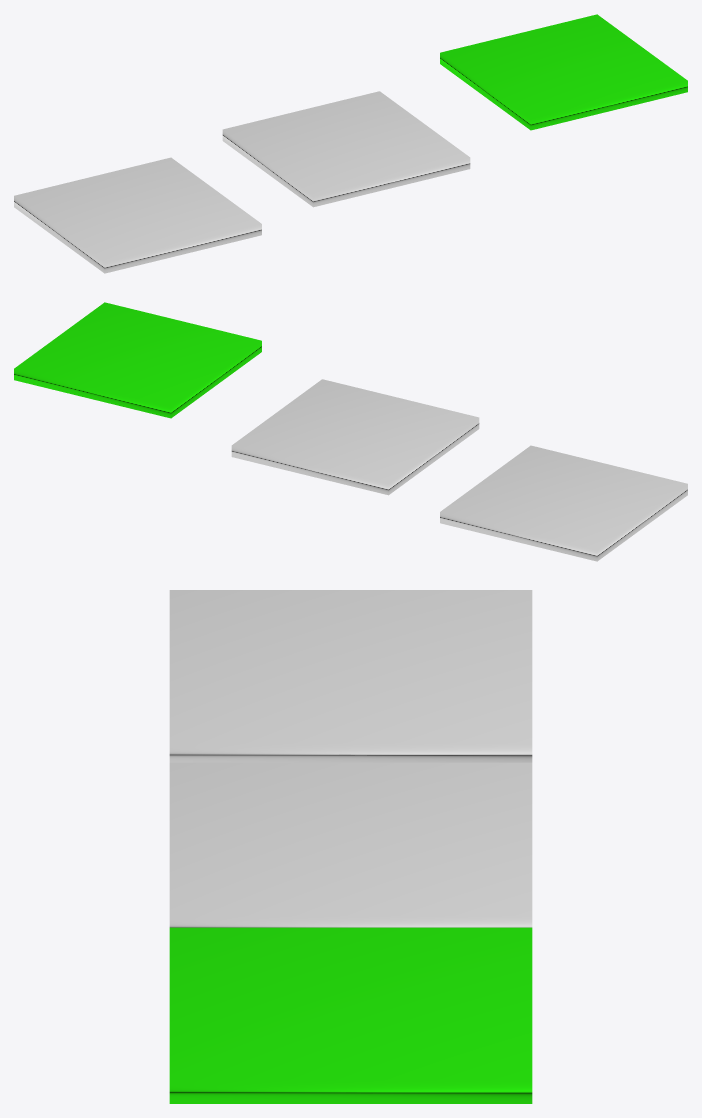
File: level1.gltf
3 renders of one model, top to bottom at view 1: azimuth 30°, elevation 25°; view 2: azimuth 150°, elevation 25°; view 3: azimuth 270°, elevation 25°, orthographic. The views are drawn at different scales.
Parts seen in each view (by area): view 1: Cube.001, Cube, Cube.002; view 2: Cube.001, Cube, Cube.002; view 3: Cube.002, Cube, Cube.001.
Part boxes in pixels (<box>): Cube.001: <box>222,91,470,207</box>; Cube: <box>14,157,261,273</box>; Cube.002: <box>440,14,687,130</box>; Cube.001: <box>231,379,479,495</box>; Cube: <box>440,445,687,561</box>; Cube.002: <box>14,302,261,418</box>; Cube.002: <box>169,927,532,1103</box>; Cube: <box>169,590,532,762</box>; Cube.001: <box>169,762,532,927</box>.
Size of the model in its own units: 27.7 by 2.3 by 7.46.
